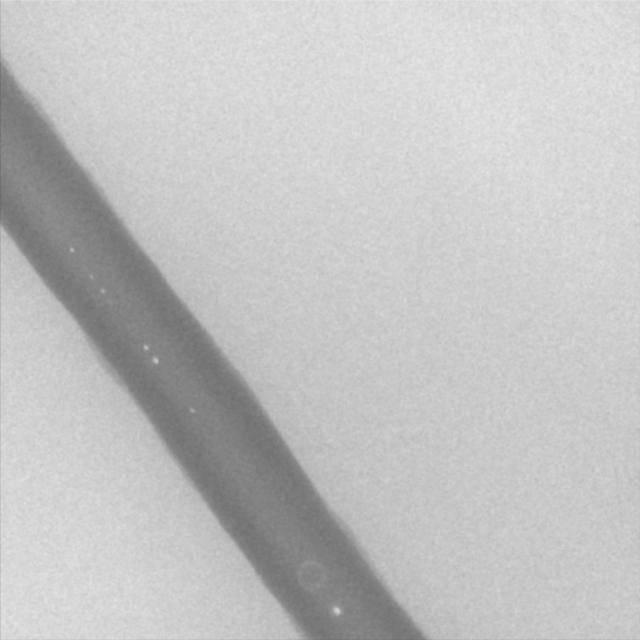air hole: (331, 605, 342, 618), (187, 404, 196, 415), (66, 244, 75, 254), (98, 286, 106, 297), (141, 341, 149, 351), (151, 357, 160, 365), (89, 271, 95, 281)
hollow bead: (296, 556, 328, 592)
